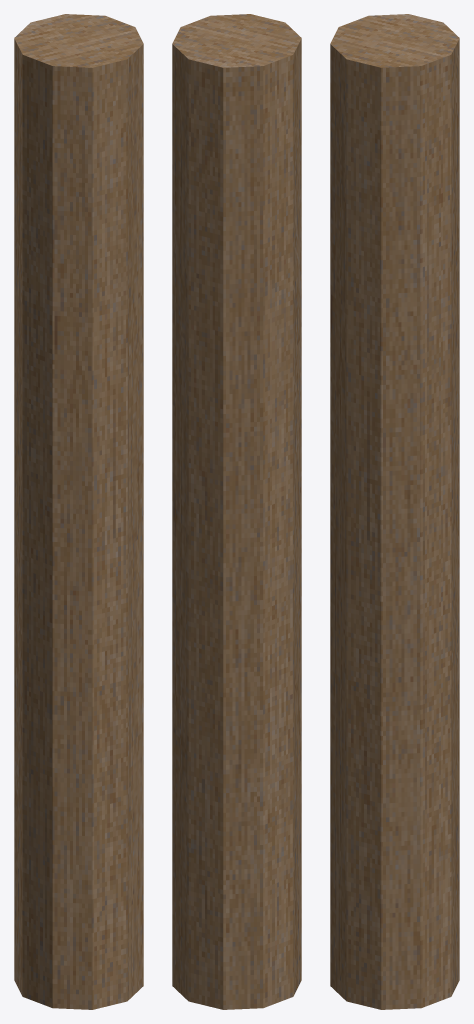
File: WoodPost.glb
The picture shows the model from 3 angles, left to right: view 1: azimuth 30°, elevation 25°; view 2: azimuth 150°, elevation 25°; view 3: azimuth 330°, elevation 25°; orthographic projection.
Parts seen in each view (by area): view 1: pCylinder1; view 2: pCylinder1; view 3: pCylinder1.
Part boxes in pixels (x1,y1,x2,y2): pCylinder1: (14, 14, 143, 1009); pCylinder1: (172, 14, 301, 1009); pCylinder1: (330, 14, 459, 1009).
Size of the model in its own units: 0.2459 by 1.96 by 0.2339.
Materials: 1 (1 with a texture image).
